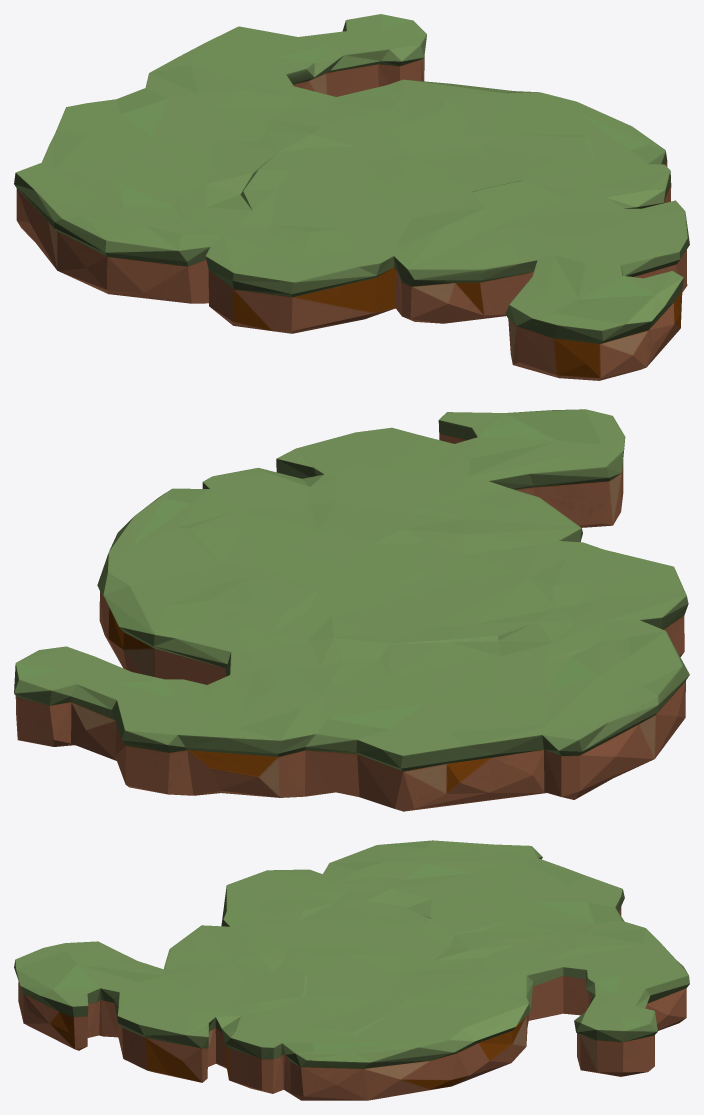
The model's file is Low_poly_Island.glb.
The picture shows the model from 3 angles, top to bottom: view 1: azimuth 30°, elevation 25°; view 2: azimuth 150°, elevation 25°; view 3: azimuth 270°, elevation 25°; orthographic projection. The views are drawn at different scales.
Visible parts, largest first — view 1: unnamed; view 2: unnamed; view 3: unnamed.
Boxes of the visible parts, x1=… form: unnamed: x1=14, y1=14, x2=689, y2=380; unnamed: x1=14, y1=409, x2=689, y2=811; unnamed: x1=14, y1=840, x2=689, y2=1100.
Bounding box in the file's own units: 0.1945 × 0.0204 × 0.2557.
Materials: 1 (1 with a texture image).
